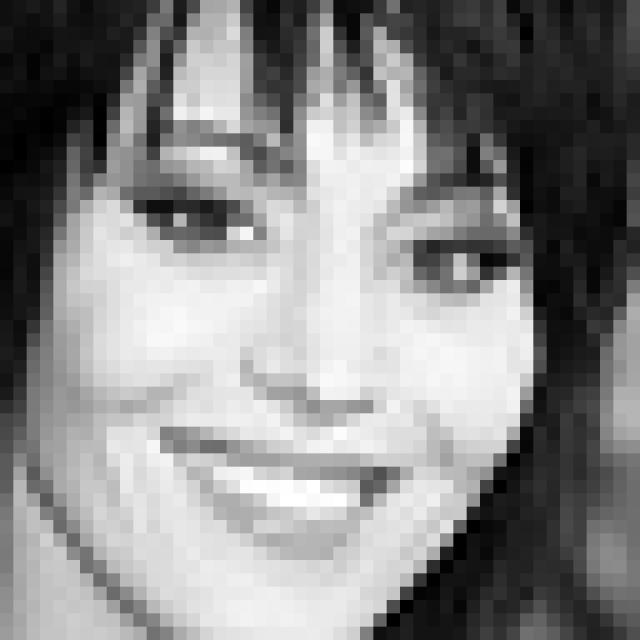happy: (104, 121, 523, 570)
